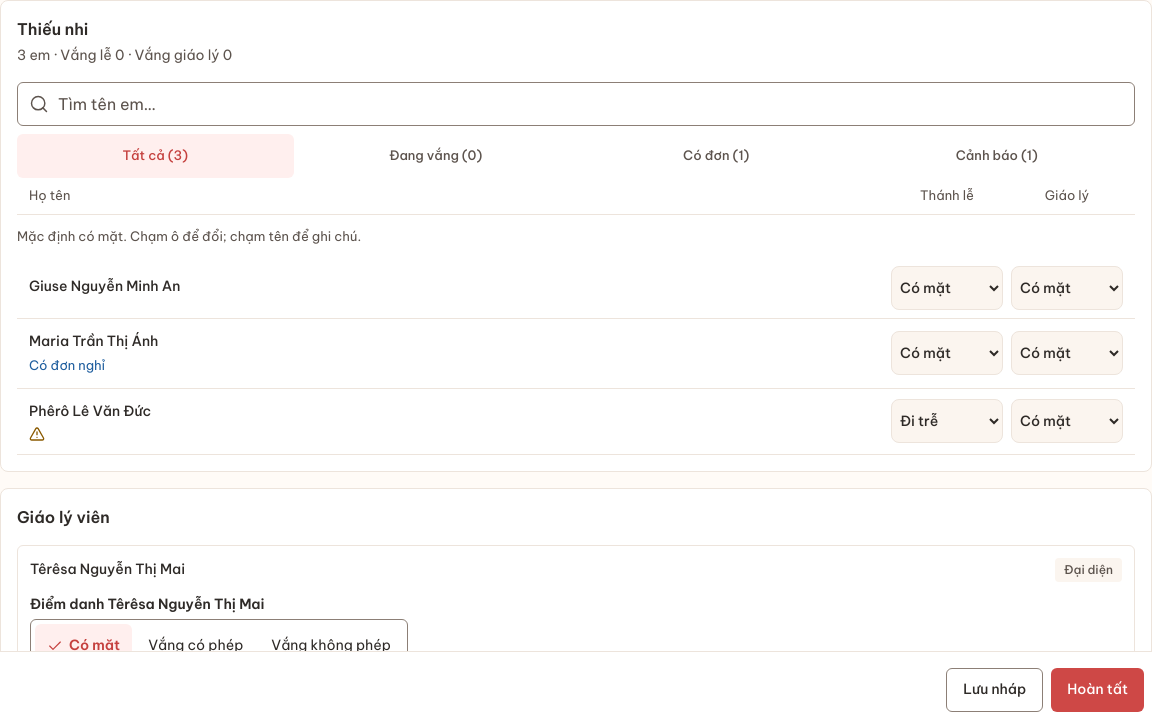
Test: TB-03 — hộp xác nhận trước khi chốt › bấm “Hoàn tất” chưa gửi gì cả; bấm “Quay lại sửa” cũng vậy
Step 1. Click the button with aria-label "Hoàn tất điểm danh" → x=1098, y=690, box [1051, 668, 1144, 712]
(page scrolled)
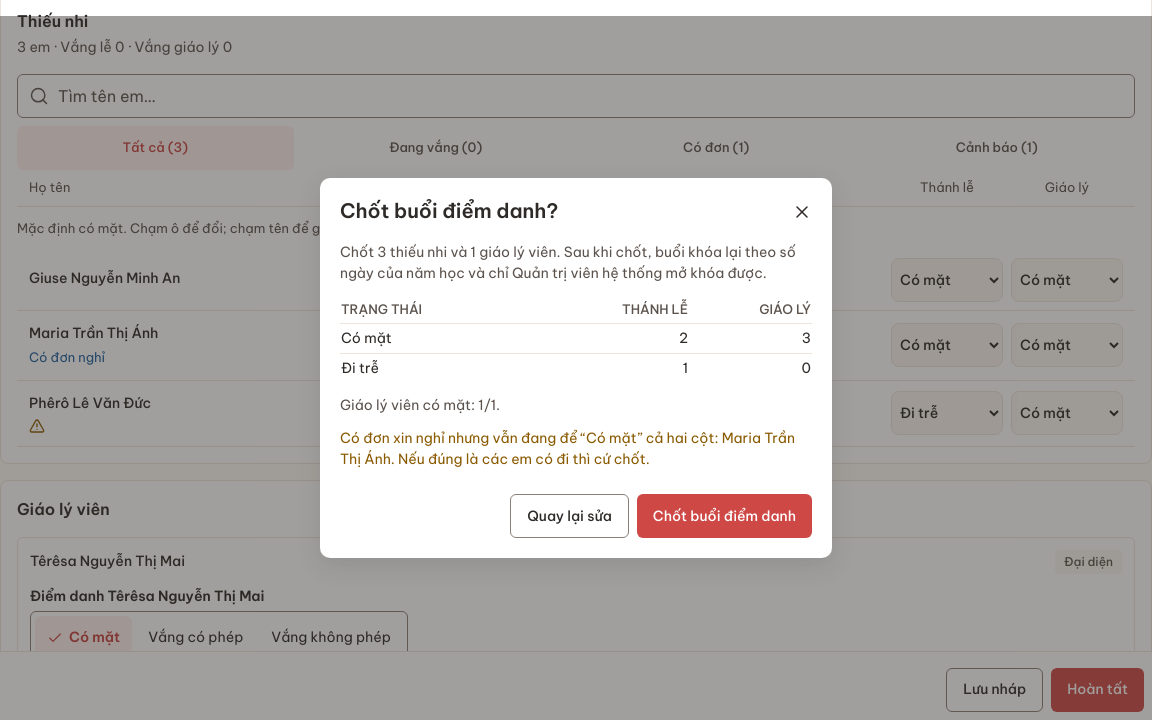
Check: the dialog is shown, box [320, 178, 832, 558]
Step 2. Click the button "Quay lại sửa" → x=570, y=516, box [510, 494, 629, 538]
(page scrolled)
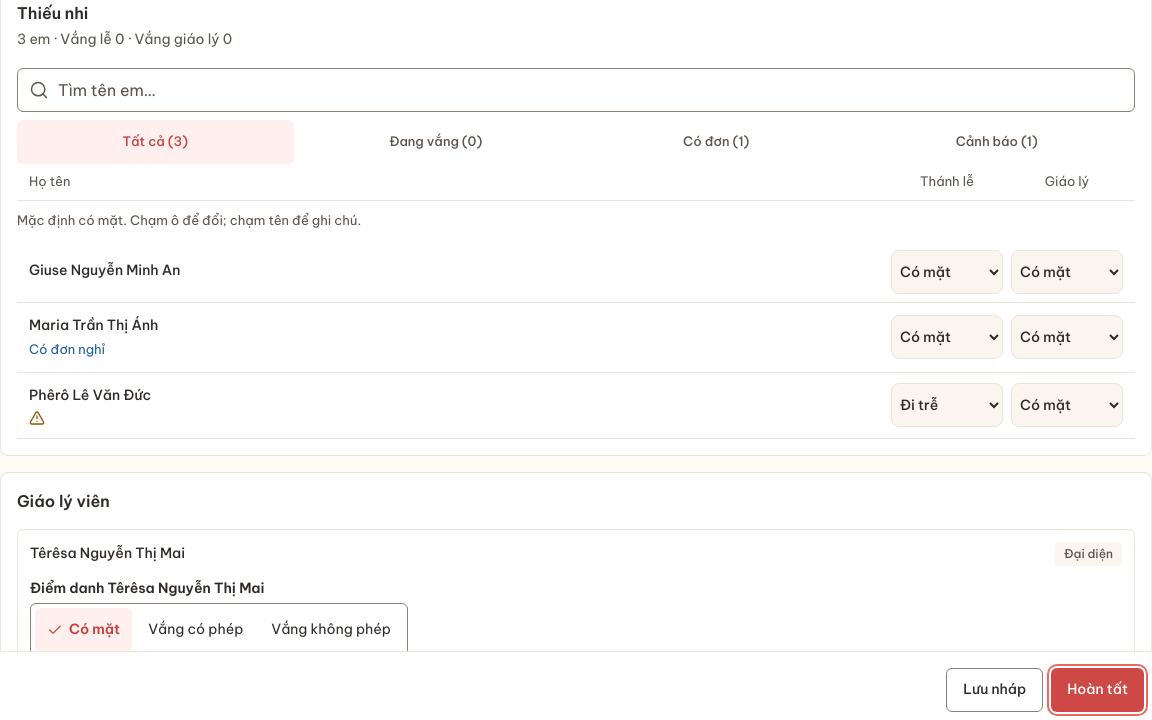
Check: the dialog is gone
